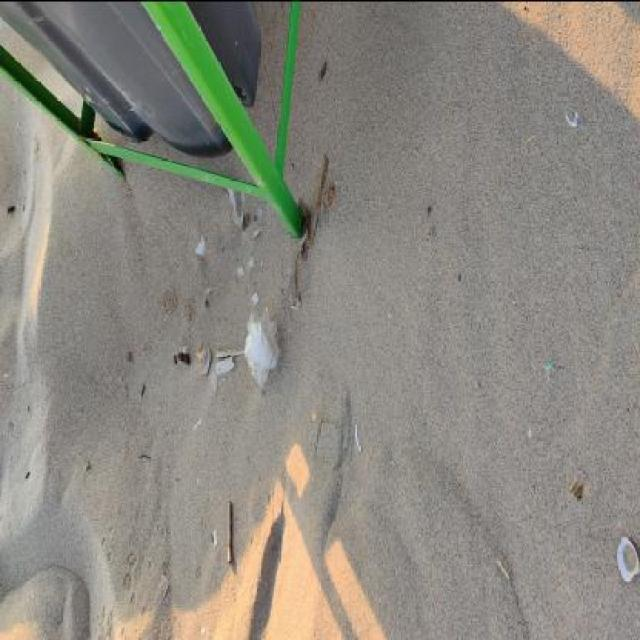plastic: (244, 304, 279, 388)
